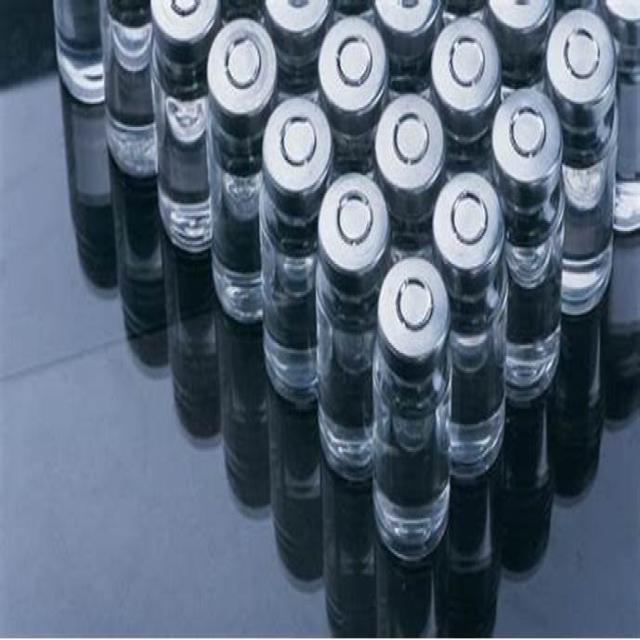vial: (372, 96, 451, 182), (436, 172, 502, 270), (374, 256, 450, 338), (314, 178, 391, 252), (493, 96, 562, 178), (260, 109, 333, 186), (202, 33, 282, 99), (551, 20, 617, 96), (324, 31, 386, 110), (436, 23, 495, 99), (148, 0, 219, 33), (373, 0, 444, 31), (268, 0, 329, 31), (496, 0, 558, 30), (606, 0, 640, 38)
